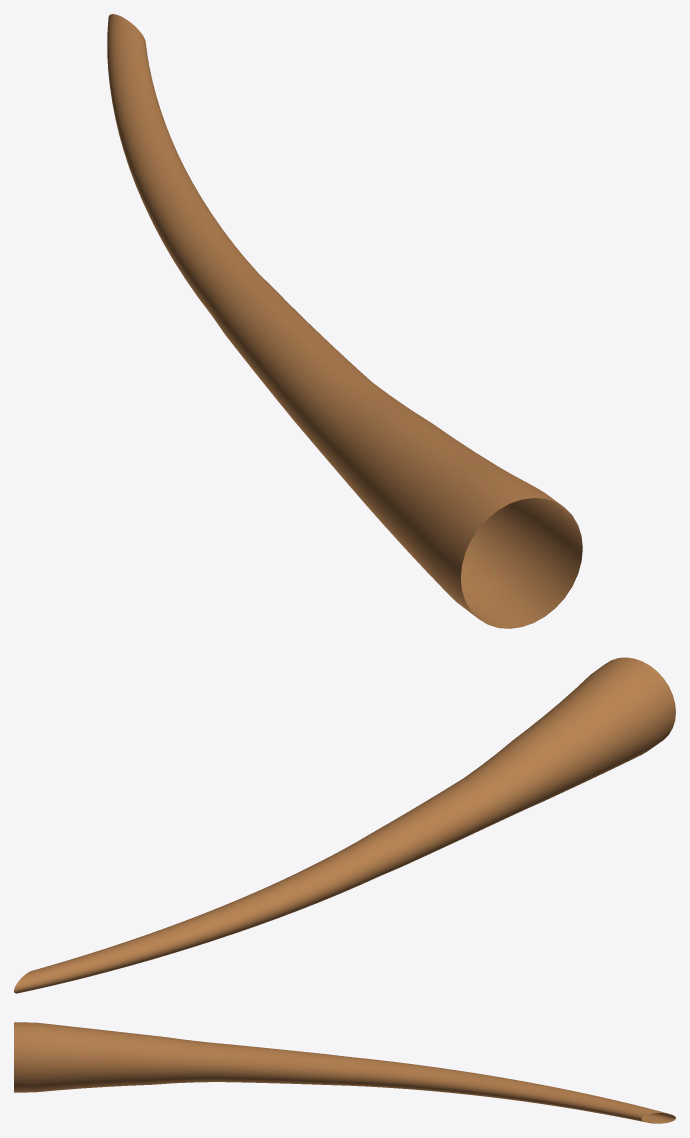
The model's file is JumpTail.dae.
The picture shows the model from 3 angles, top to bottom: view 1: azimuth 30°, elevation 25°; view 2: azimuth 150°, elevation 25°; view 3: azimuth 270°, elevation 25°; orthographic projection. The views are drawn at different scales.
Parts seen in each view (by area): view 1: jump; view 2: jump; view 3: jump.
Boxes of the visible parts, x1=… form: jump: x1=107, y1=14, x2=582, y2=628; jump: x1=14, y1=657, x2=675, y2=993; jump: x1=14, y1=1022, x2=675, y2=1123.
Size of the model in its own units: 4.8 by 1.88 by 17.63.
Materials: 1 (1 with a texture image).
